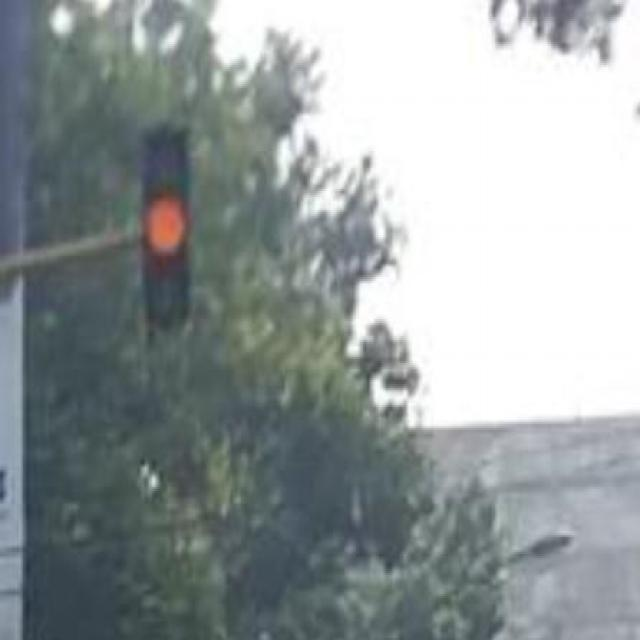yellow_light: (139, 124, 192, 326)
